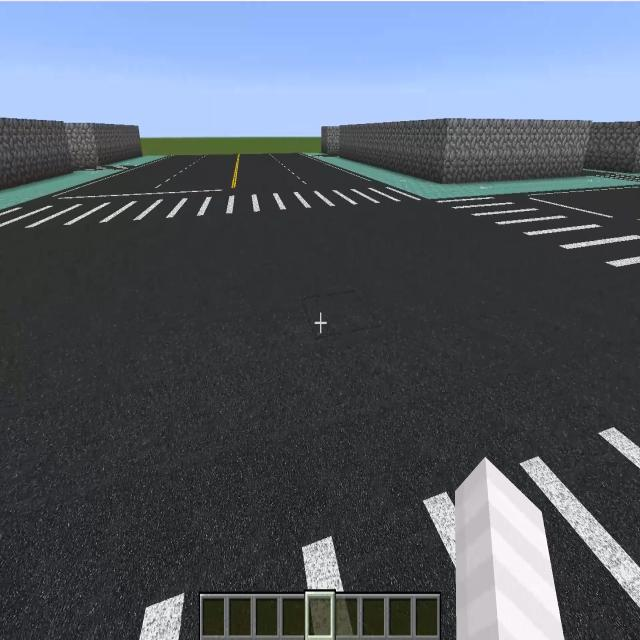crosswalk: (125, 471, 456, 639), (520, 425, 638, 619), (2, 179, 430, 231), (438, 192, 640, 288)
road: (0, 209, 635, 589), (71, 153, 359, 194)
sidewalk: (321, 157, 640, 199), (0, 171, 118, 209), (100, 155, 165, 166)
